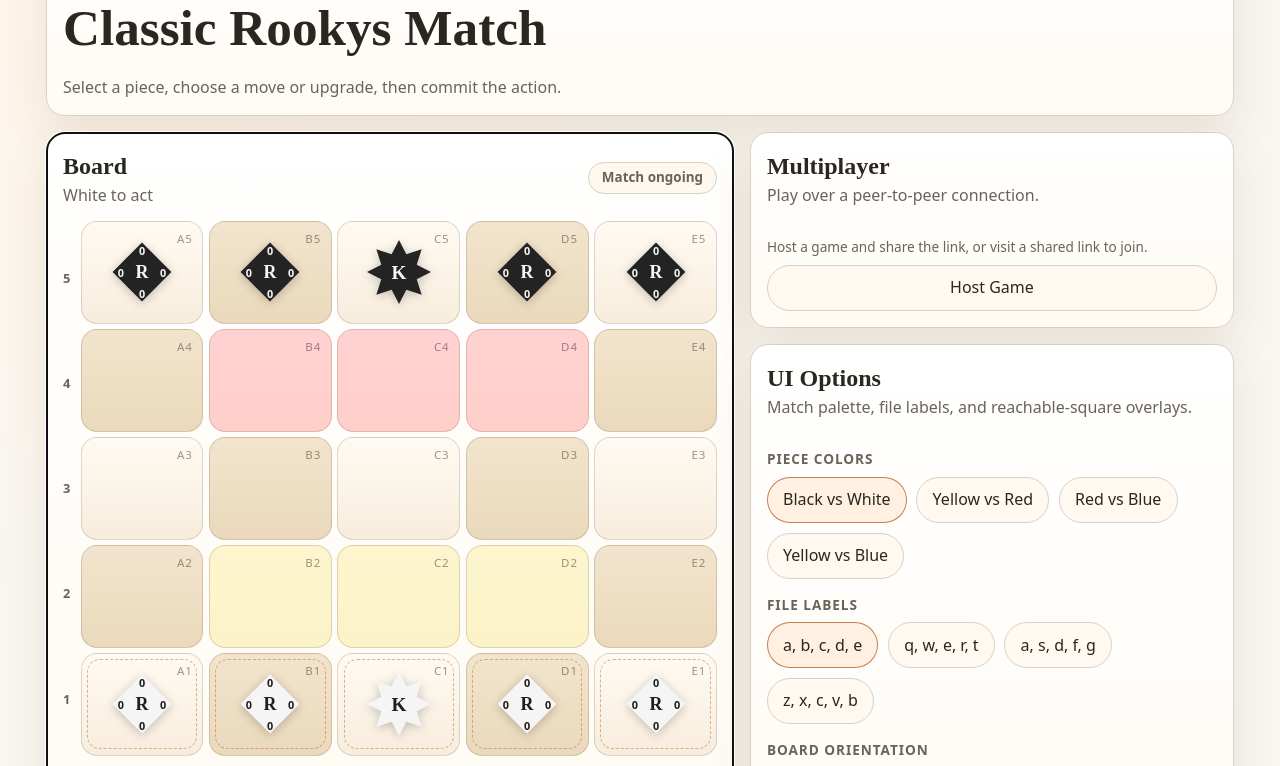
Test: App – multiplayer › sync received replaces game state
(page scrolled)
Click the button "Host Game" at (992, 288), box [767,265,1217,311]
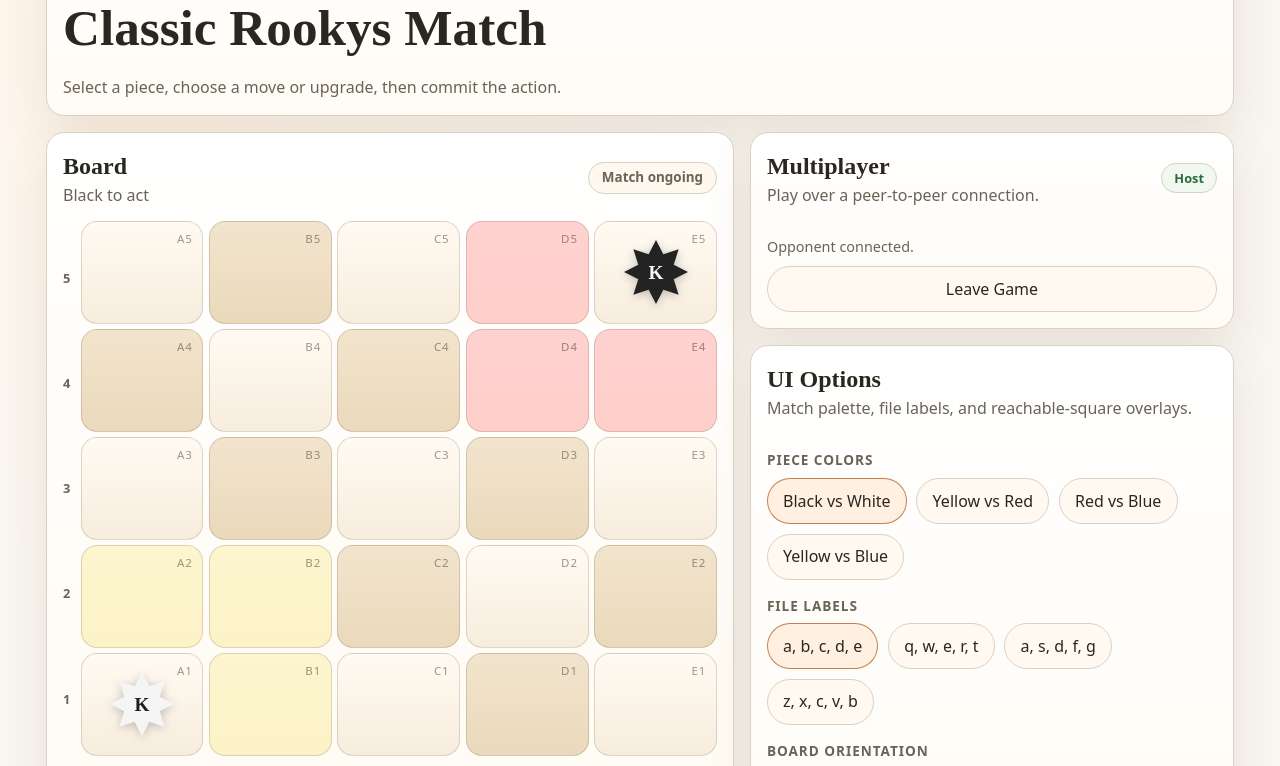
Expected: the text "Black to act" is shown, [63,184,149,207]
